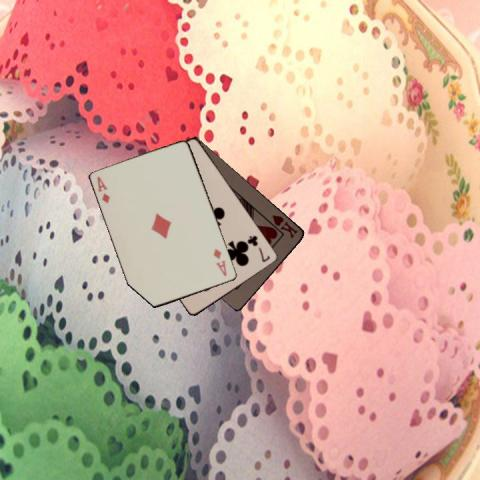7c: (246, 233, 272, 263)
Ad: (211, 245, 228, 278), (94, 173, 111, 205)
Kh: (270, 212, 300, 240)
